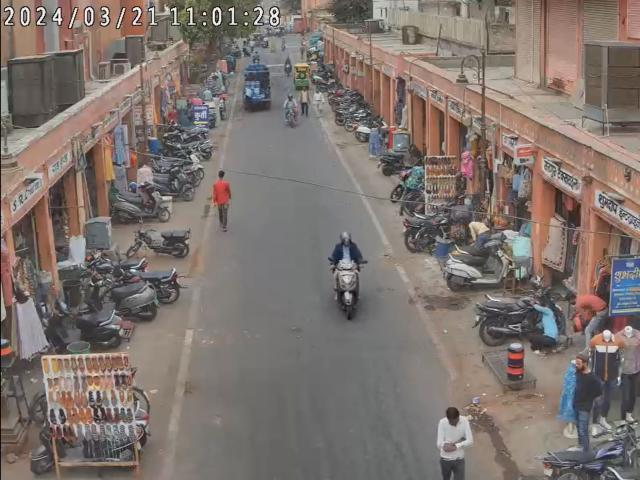auto: (240, 67, 272, 113)
helmet: (337, 232, 354, 244)
motorbike: (541, 405, 640, 479), (474, 293, 548, 351), (400, 206, 448, 253), (140, 264, 182, 302)
motorbike-rider: (280, 96, 298, 128)
person: (560, 354, 604, 428), (432, 404, 474, 479), (212, 170, 232, 232)
scooty: (102, 244, 160, 318), (438, 209, 491, 289), (112, 166, 174, 224), (74, 299, 128, 348), (355, 115, 375, 141)
scooty-rider: (326, 230, 366, 319), (374, 128, 410, 176)
